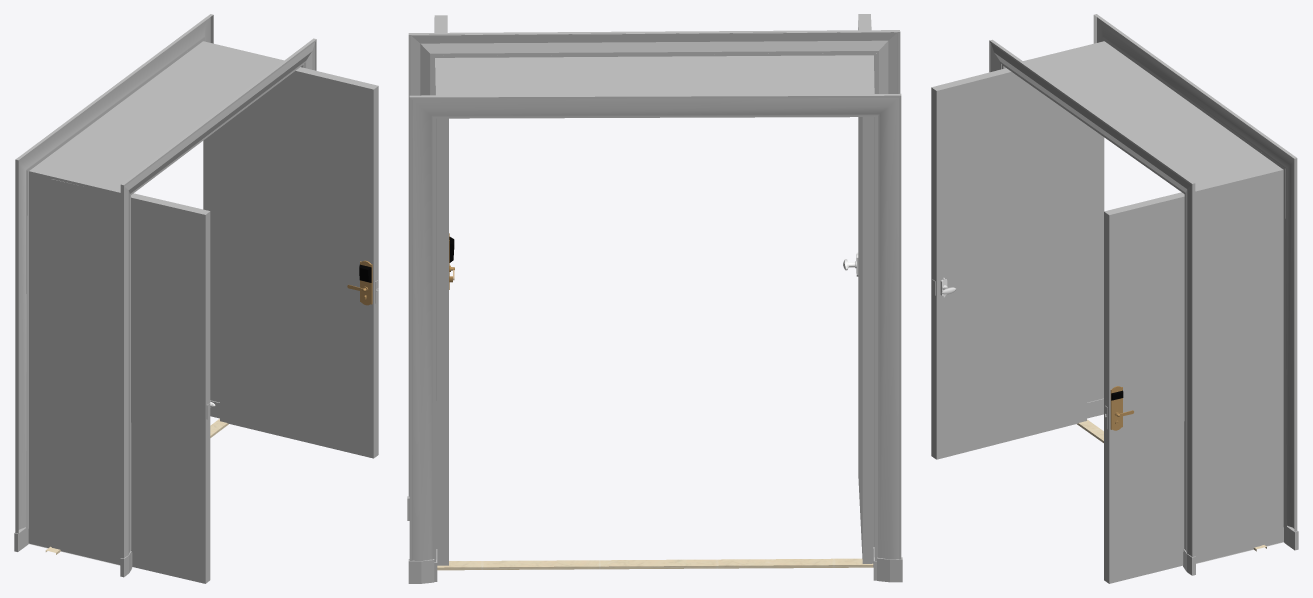
The model's file is SalonMessager_Door_Scene3.fbx.
The picture shows the model from 3 angles, left to right: view 1: azimuth 30°, elevation 25°; view 2: azimuth 150°, elevation 25°; view 3: azimuth 270°, elevation 25°; orthographic projection. The views are drawn at different scales.
Parts seen in each view (by area): view 1: DoorFrame, Door_L, Door_R; view 2: DoorFrame, Door_R, Door_L; view 3: DoorFrame, Door_R, Door_L.
Boxes of the visible parts, x1,y1,x2,y2 form: DoorFrame: (14, 14, 316, 577); Door_L: (220, 67, 378, 458); Door_R: (51, 179, 215, 583); DoorFrame: (407, 30, 902, 583); Door_R: (843, 14, 874, 563); Door_L: (434, 15, 454, 565); DoorFrame: (989, 14, 1298, 575); Door_R: (931, 68, 1086, 459); Door_L: (1104, 192, 1261, 583).
Size of the model in its own units: 229 by 231 by 196.
